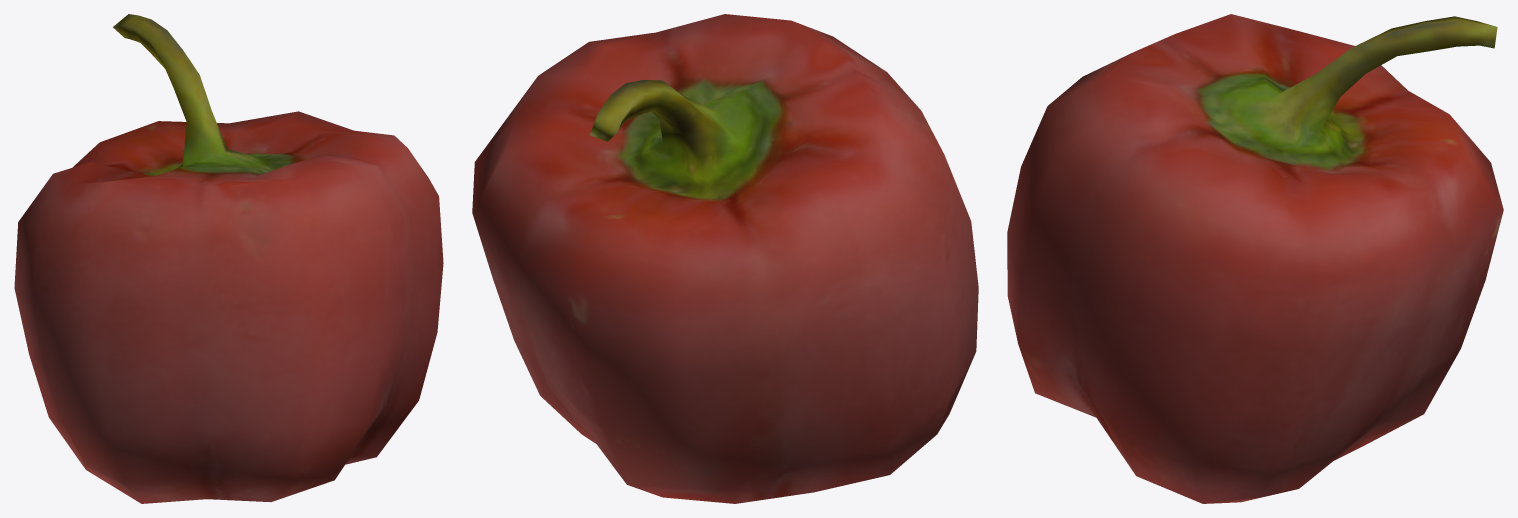
The model's file is Prop_Vegetables_Pepper_x1.fbx.
The picture shows the model from 3 angles, left to right: view 1: azimuth 30°, elevation 25°; view 2: azimuth 150°, elevation 25°; view 3: azimuth 270°, elevation 25°; orthographic projection. The views are drawn at different scales.
Visible parts, largest first — view 1: Prop_Vegetables_Pepper_x1; view 2: Prop_Vegetables_Pepper_x1; view 3: Prop_Vegetables_Pepper_x1.
Part boxes in pixels (bbox=[...]): Prop_Vegetables_Pepper_x1: bbox=[14, 14, 443, 503]; Prop_Vegetables_Pepper_x1: bbox=[472, 14, 978, 503]; Prop_Vegetables_Pepper_x1: bbox=[1007, 14, 1503, 503].
Bounding box in the file's own units: 6.02 × 5.78 × 5.93.
